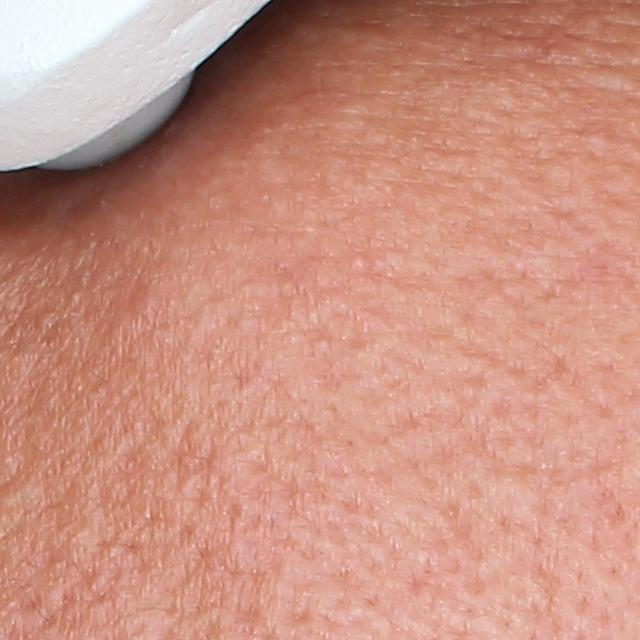comedo: (349, 252, 372, 273)
